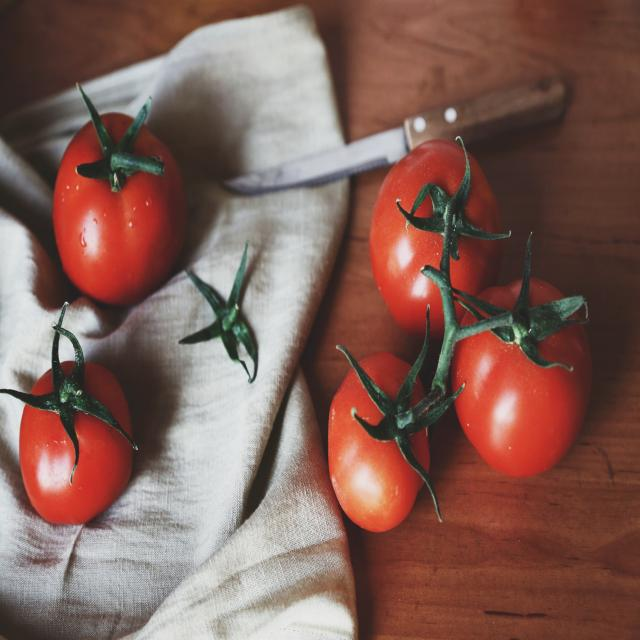Tomato: (8, 325, 145, 520), (453, 265, 581, 469), (60, 84, 185, 291), (373, 134, 490, 328), (331, 356, 434, 532)
